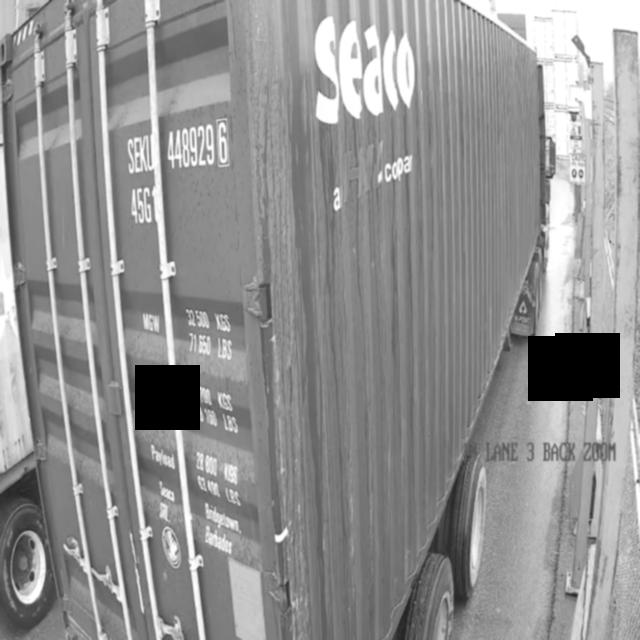container_company_logo: (308, 12, 425, 139)
container_number: (122, 102, 229, 230)
other_container_info: (137, 297, 257, 540)
truck_with_container: (0, 0, 549, 640)
